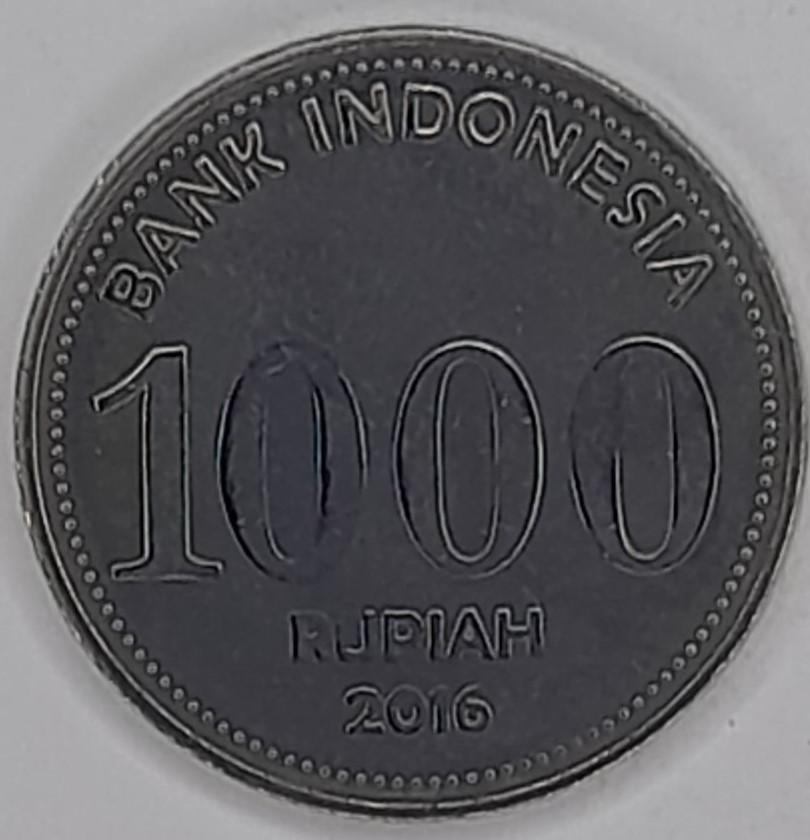coin_1000_e2016: (14, 17, 799, 840)
